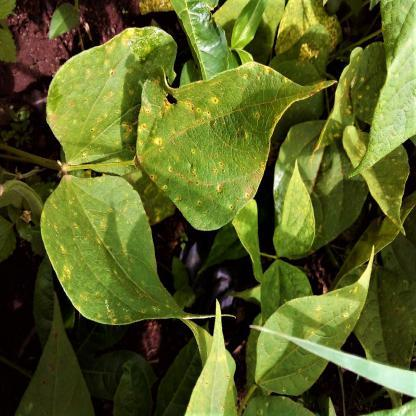Beans_Rust: (138, 63, 326, 220), (36, 179, 168, 328), (43, 29, 177, 171), (256, 248, 387, 393), (316, 40, 388, 146), (343, 115, 413, 220), (191, 296, 237, 416)
